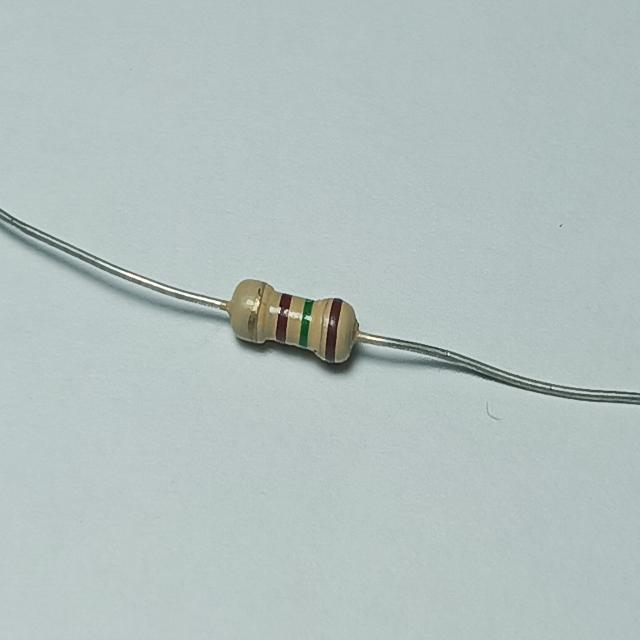150 ohms: (218, 268, 370, 383)
